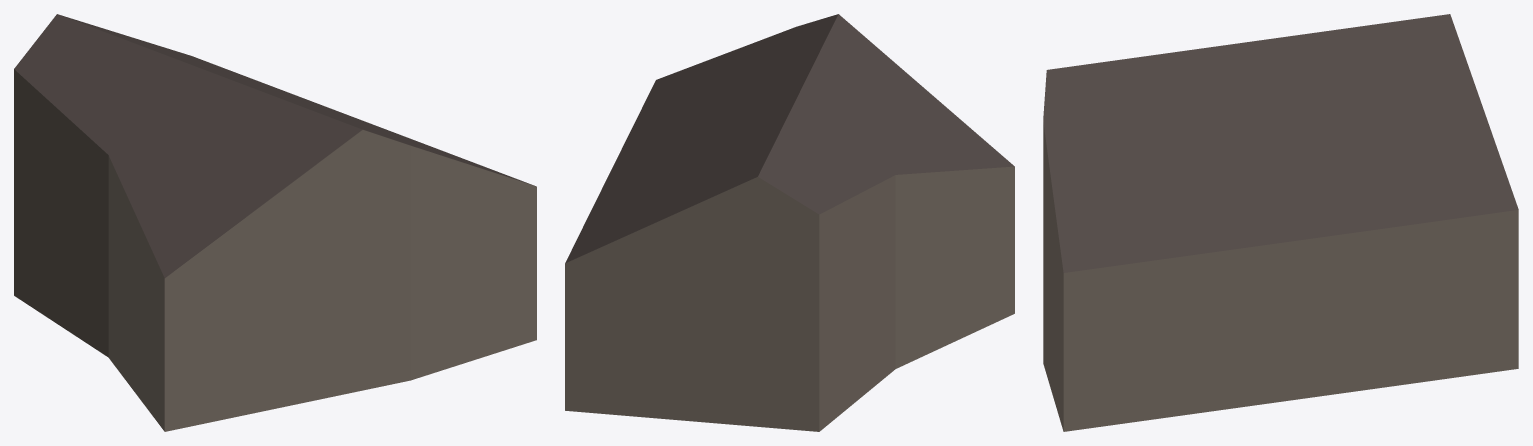
3 views of the same model, side by side, from view 1: azimuth 30°, elevation 25°; view 2: azimuth 150°, elevation 25°; view 3: azimuth 270°, elevation 25° (orthographic). The views are drawn at different scales.
Parts seen in each view (by area): view 1: HP-w293398944; view 2: HP-w293398944; view 3: HP-w293398944.
Part boxes in pixels (left/top/right/bottom): HP-w293398944: left=14, top=14, right=536, bottom=431; HP-w293398944: left=565, top=14, right=1014, bottom=431; HP-w293398944: left=1043, top=14, right=1518, bottom=431.
Bounding box in the file's own units: 15.26 × 10.19 × 16.28.
